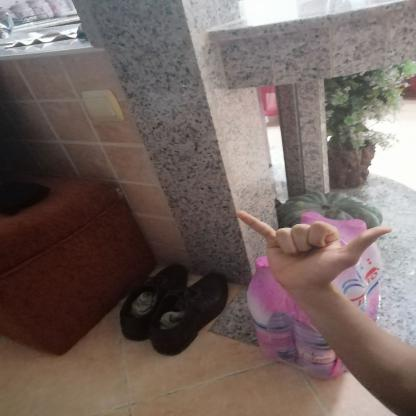YA: (224, 201, 404, 299)
